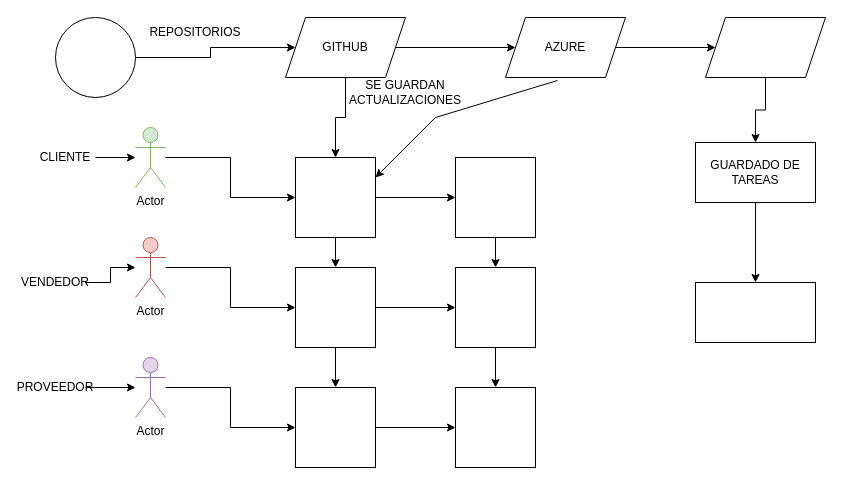
Image size: 843x485. Some labels were removed from this diagram. The shapes that lost their labels are listed below. From the top down, each one's centre as x and y in pixels, then its label:
[95,57]: PÁGINA
[765,47]: AZURE DEVOPS
[755,312]: GUARDADO DE CODIGO
